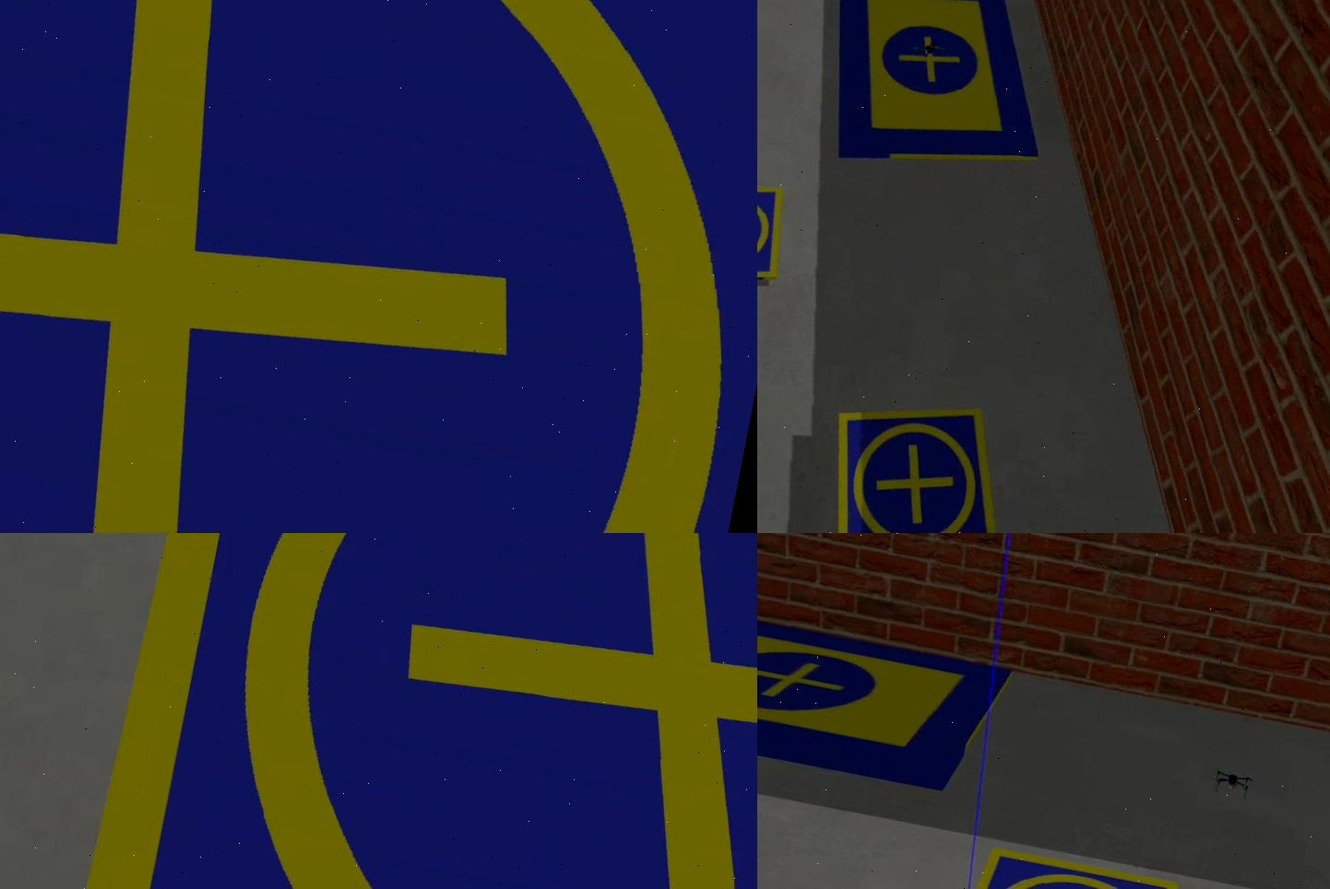large_base: (757, 568, 1017, 802), (804, 1, 1073, 196)
small_base: (1, 1, 757, 534), (40, 534, 757, 889), (812, 385, 1029, 534), (930, 838, 1215, 889), (757, 166, 792, 306)
